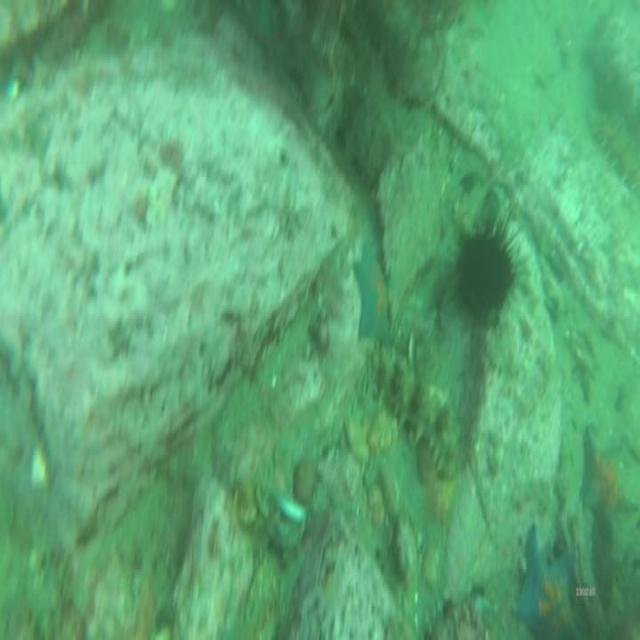echinus: (461, 236, 511, 314)
holothurian: (374, 351, 459, 477), (588, 112, 640, 194)
starfish: (511, 528, 578, 638), (578, 428, 637, 526), (355, 250, 391, 344)
